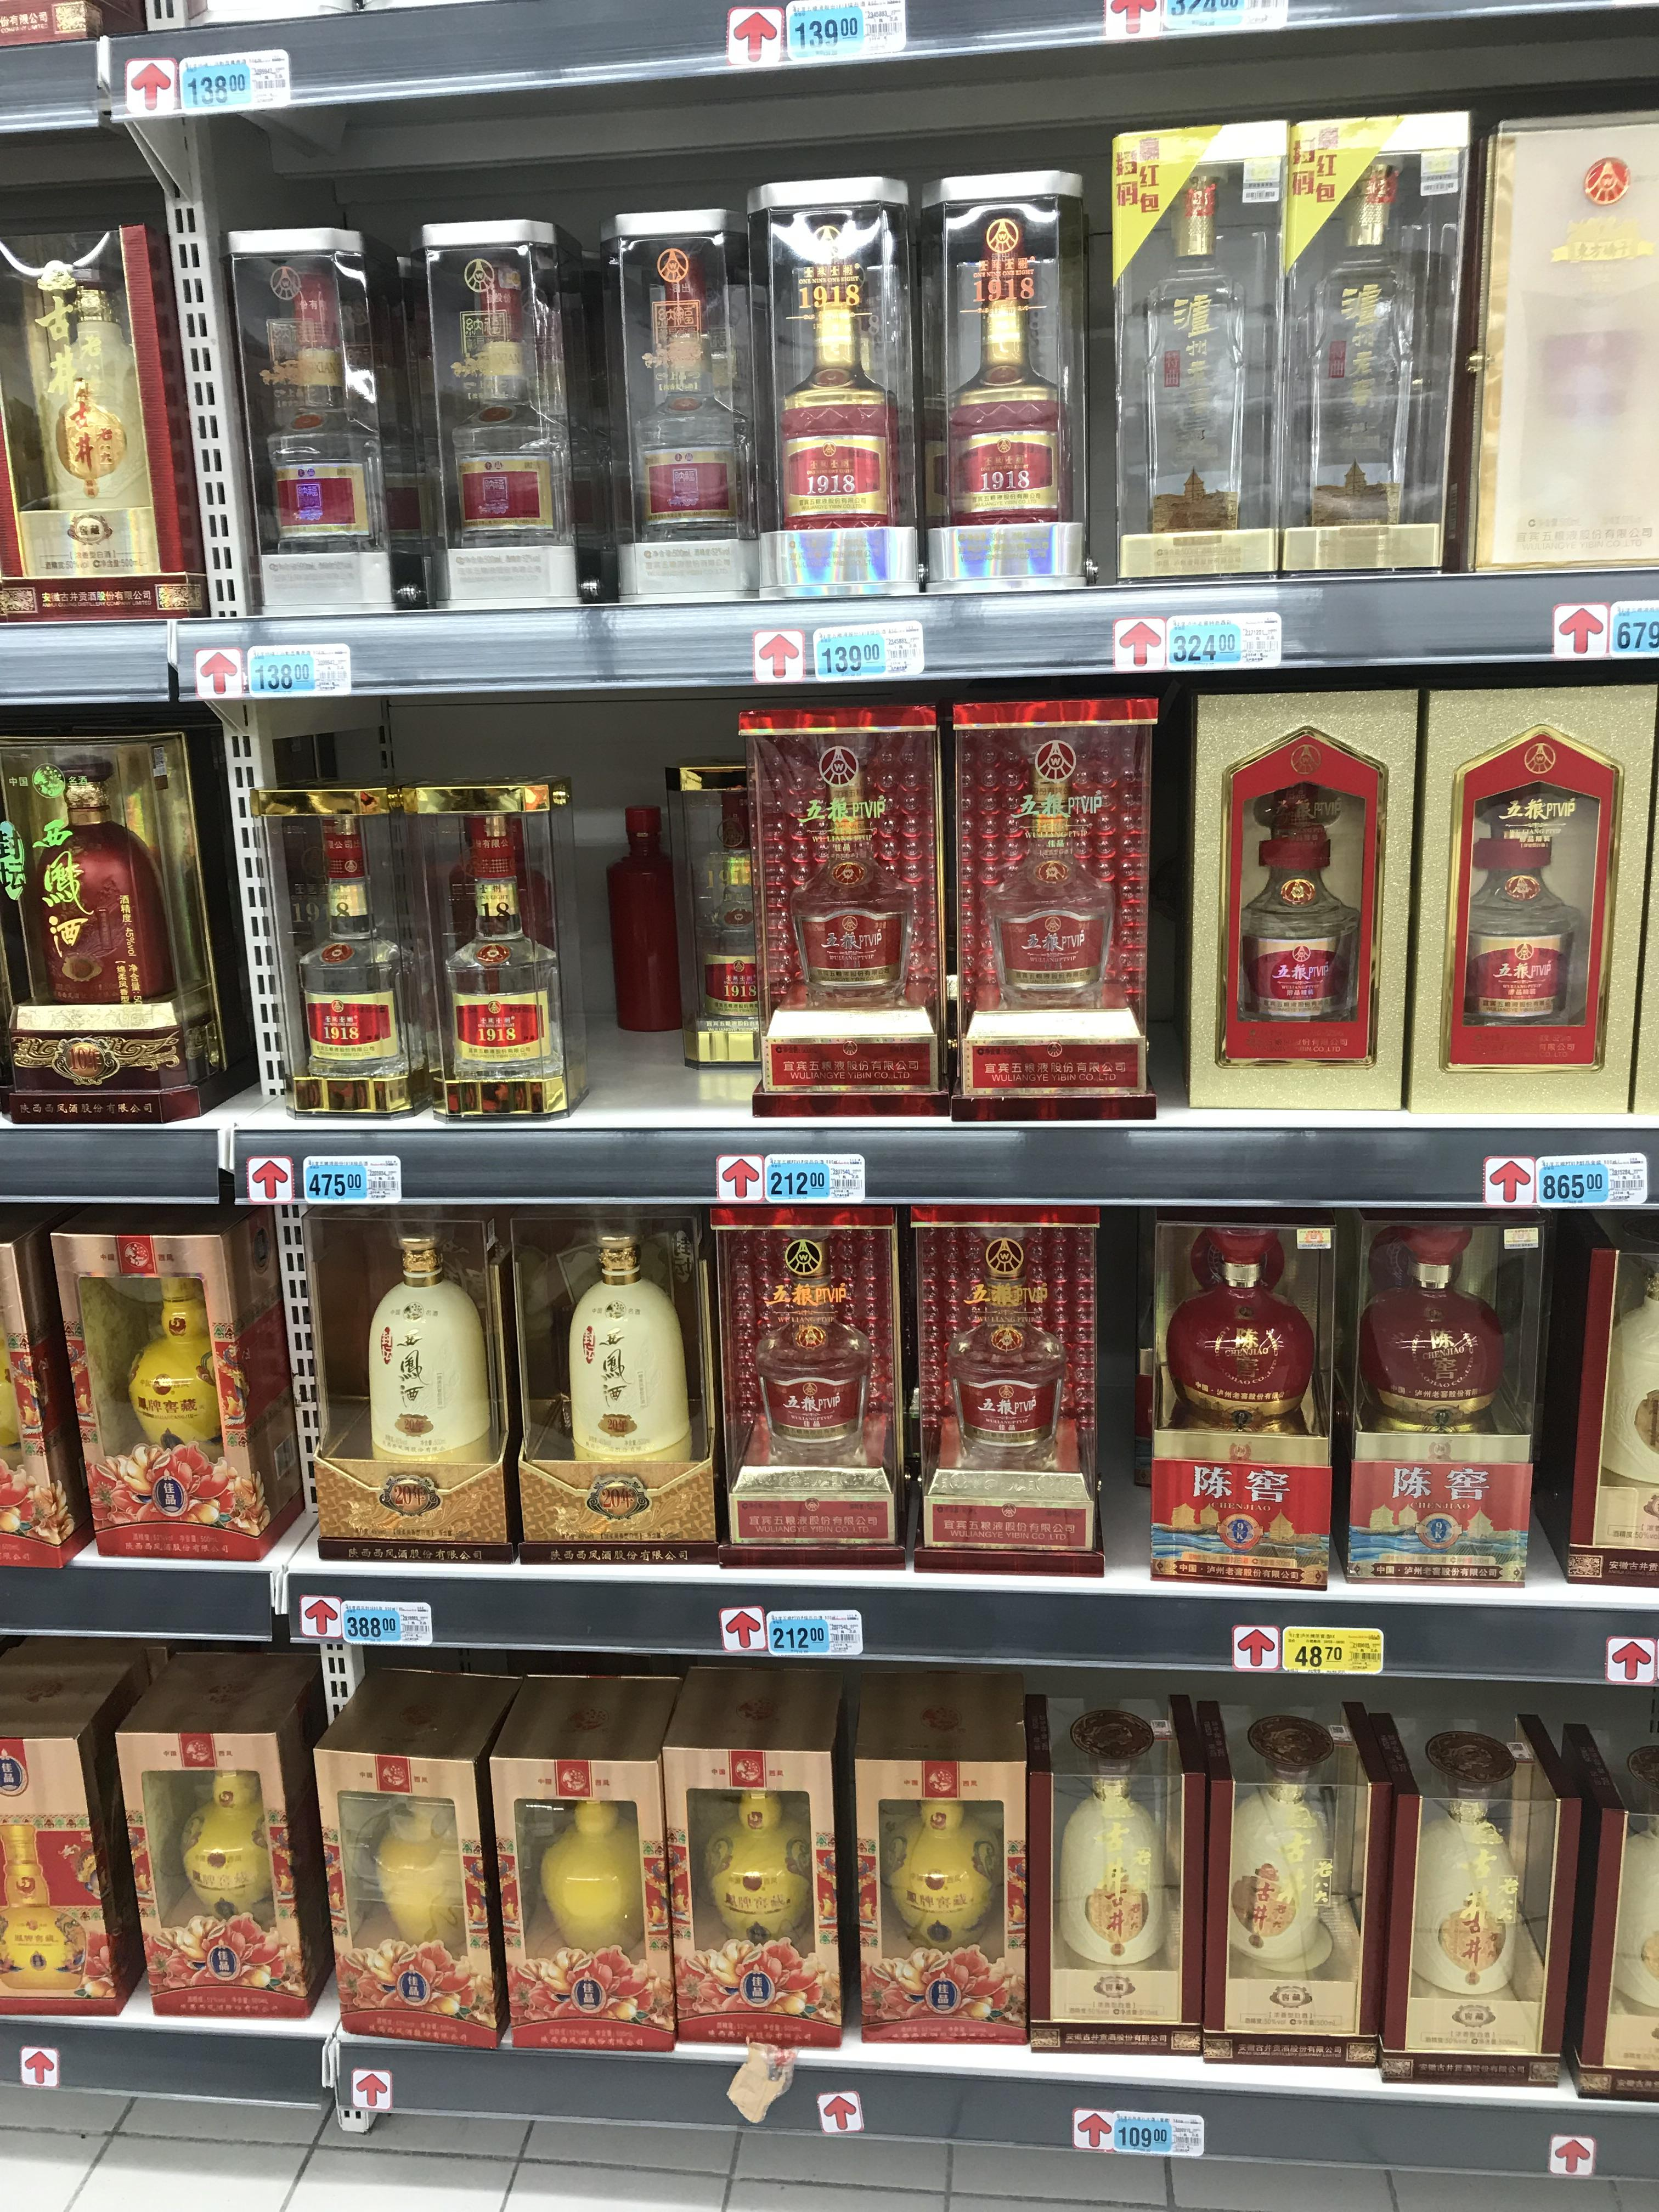bag: (945, 697, 1155, 1125), (45, 1205, 293, 1561), (127, 1648, 315, 2020), (718, 1200, 903, 1569), (312, 1674, 495, 2041), (850, 1667, 1025, 2047), (1558, 1233, 1656, 1585)
bottle: (1406, 683, 1659, 1120), (1194, 690, 1410, 1109), (1467, 113, 1659, 571), (0, 214, 214, 622), (1291, 106, 1473, 557), (502, 1211, 716, 1562), (1366, 1710, 1565, 2083), (744, 176, 918, 599), (913, 1204, 1107, 1583), (295, 1211, 498, 1564), (1345, 1217, 1537, 1588), (406, 216, 587, 608), (667, 1663, 843, 2048), (1201, 1693, 1378, 2069), (584, 214, 755, 599), (1145, 1223, 1326, 1585), (507, 1669, 676, 2054), (404, 780, 594, 1120), (1026, 1693, 1199, 2064), (249, 782, 437, 1122), (683, 761, 753, 1073), (603, 805, 680, 1035)
box: (742, 704, 950, 1125), (1105, 124, 1281, 578), (0, 1642, 131, 2019), (1563, 1719, 1659, 2102)
jar: (0, 723, 228, 1125), (227, 226, 411, 608), (918, 171, 1080, 590)
